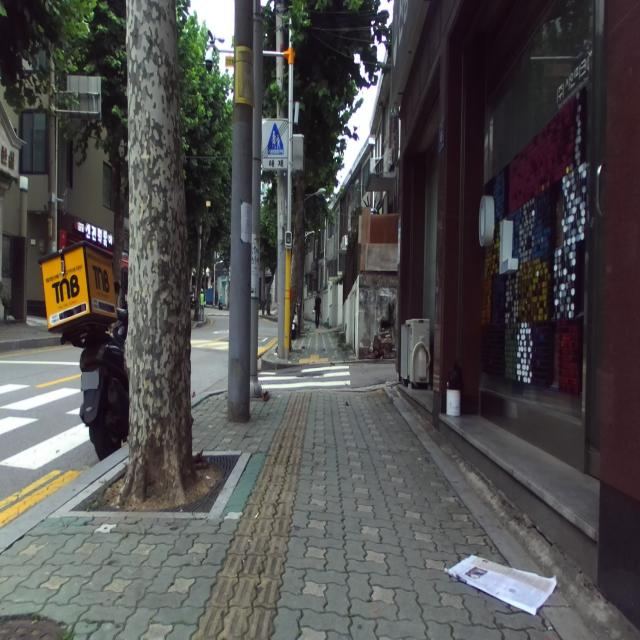횡단보도: (0, 383, 100, 473), (258, 366, 350, 390)
